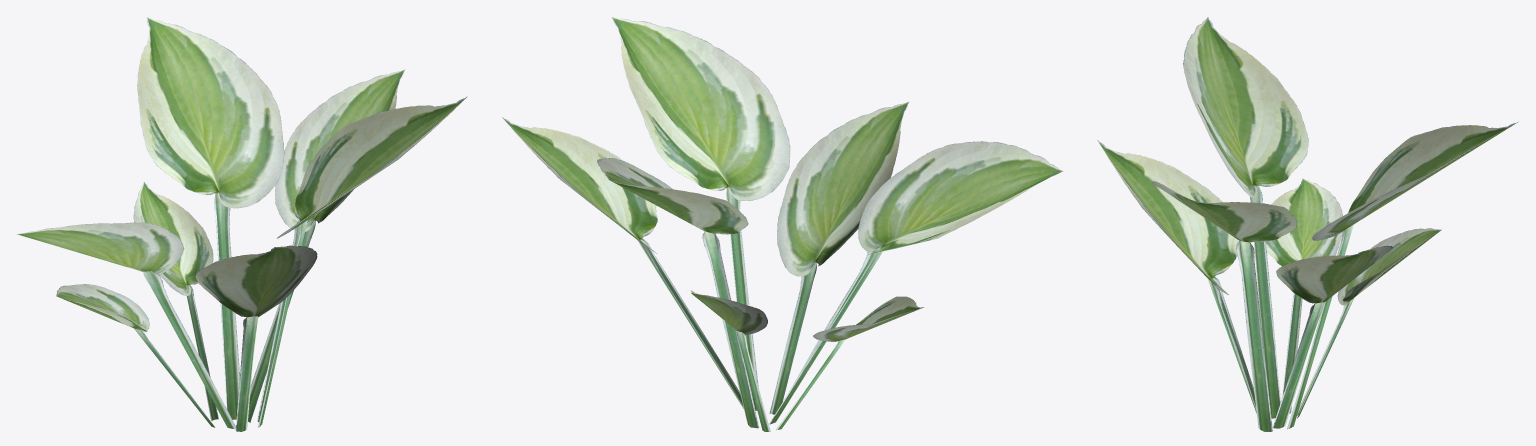
File: plant_small_wg_02E.fbx
3 renders of one model, left to right at view 1: azimuth 30°, elevation 25°; view 2: azimuth 150°, elevation 25°; view 3: azimuth 270°, elevation 25°, orthographic. The views are drawn at different scales.
Visible parts, largest first — view 1: plant_small_wg_02E; view 2: plant_small_wg_02E; view 3: plant_small_wg_02E.
Boxes of the visible parts, x1=… form: plant_small_wg_02E: x1=16, y1=17, x2=467, y2=431; plant_small_wg_02E: x1=502, y1=17, x2=1063, y2=431; plant_small_wg_02E: x1=1097, y1=17, x2=1518, y2=431.
Size of the model in its own units: 72.68 by 46.7 by 56.58.
